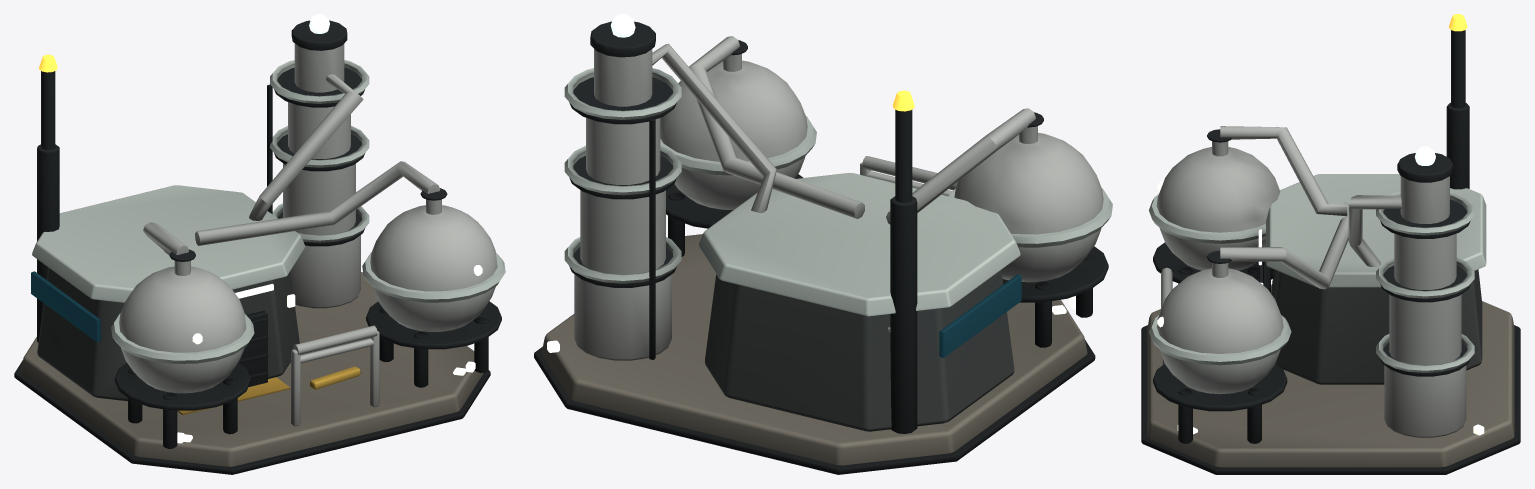
The model's file is refinery.glb.
3 views of the same model, side by side, from view 1: azimuth 30°, elevation 25°; view 2: azimuth 150°, elevation 25°; view 3: azimuth 270°, elevation 25° (orthographic). The views are drawn at different scales.
Visible parts, largest first — view 1: Steel, Foundation, Band, Gear, Hall, Trim, Windows, Hazard; view 2: Steel, Band, Foundation, Hall, Gear, Trim, Windows; view 3: Steel, Foundation, Band, Gear, Hall, Trim.
Boxes of the visible parts, x1,y1,x2,y2 form: Steel: (119, 43, 497, 426); Foundation: (20, 272, 483, 466); Band: (32, 60, 505, 363); Gear: (37, 20, 501, 448); Hall: (37, 267, 299, 401); Trim: (14, 360, 490, 474); Windows: (31, 271, 100, 342); Hazard: (177, 366, 360, 414); Steel: (574, 36, 1103, 360); Band: (564, 68, 1112, 316); Foundation: (541, 234, 1087, 465); Hall: (705, 270, 1014, 431); Gear: (569, 21, 1108, 433); Trim: (534, 340, 1095, 474); Windows: (939, 274, 1021, 357); Steel: (1156, 126, 1466, 437); Foundation: (1147, 284, 1514, 467); Band: (1149, 174, 1486, 372); Gear: (1153, 30, 1470, 443); Hall: (1271, 269, 1482, 384); Trim: (1141, 325, 1520, 474).
Size of the model in its own units: 5.24 by 4.1 by 4.62.
